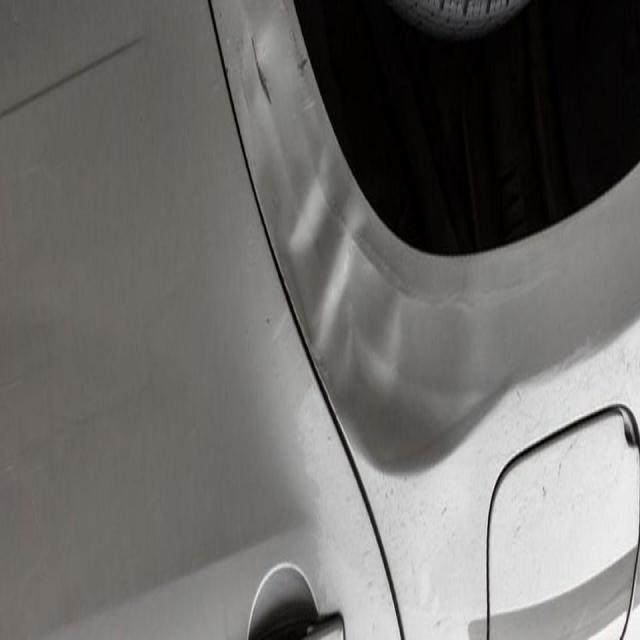dent: (255, 69, 452, 486)
